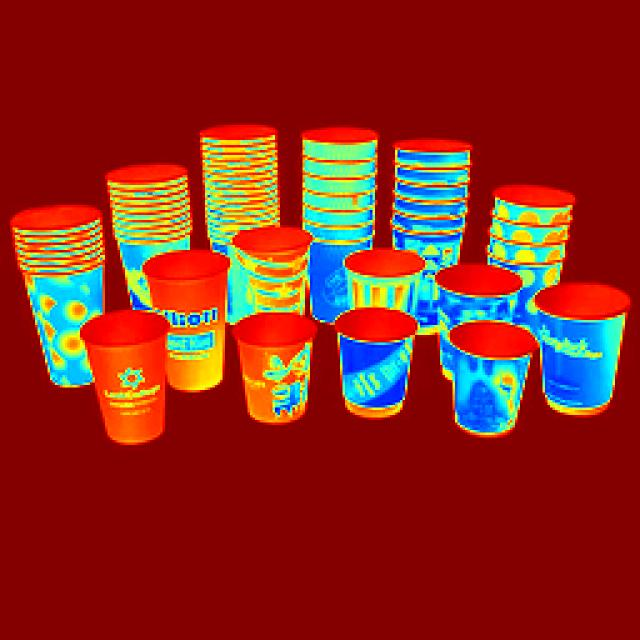Paper Cups: (0, 190, 107, 408), (90, 310, 180, 461), (543, 275, 626, 419), (294, 128, 378, 268), (233, 311, 316, 435), (151, 240, 209, 398), (342, 312, 413, 413), (212, 127, 277, 237), (116, 172, 187, 272), (460, 324, 520, 442), (240, 221, 318, 311), (500, 186, 573, 279), (405, 136, 459, 258), (447, 250, 508, 328), (361, 252, 428, 323)
